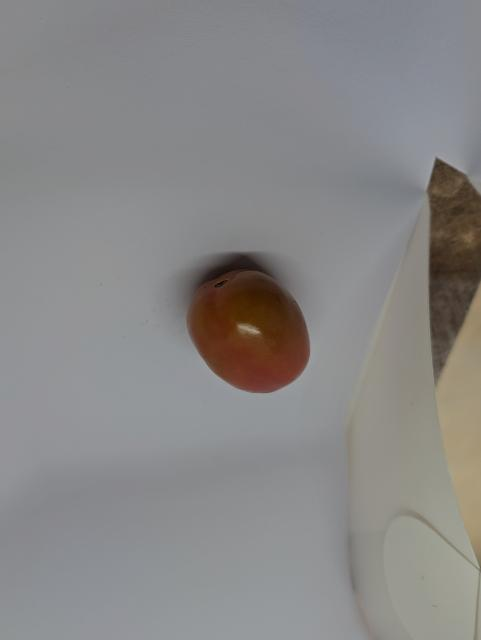turning: (181, 261, 323, 397)
